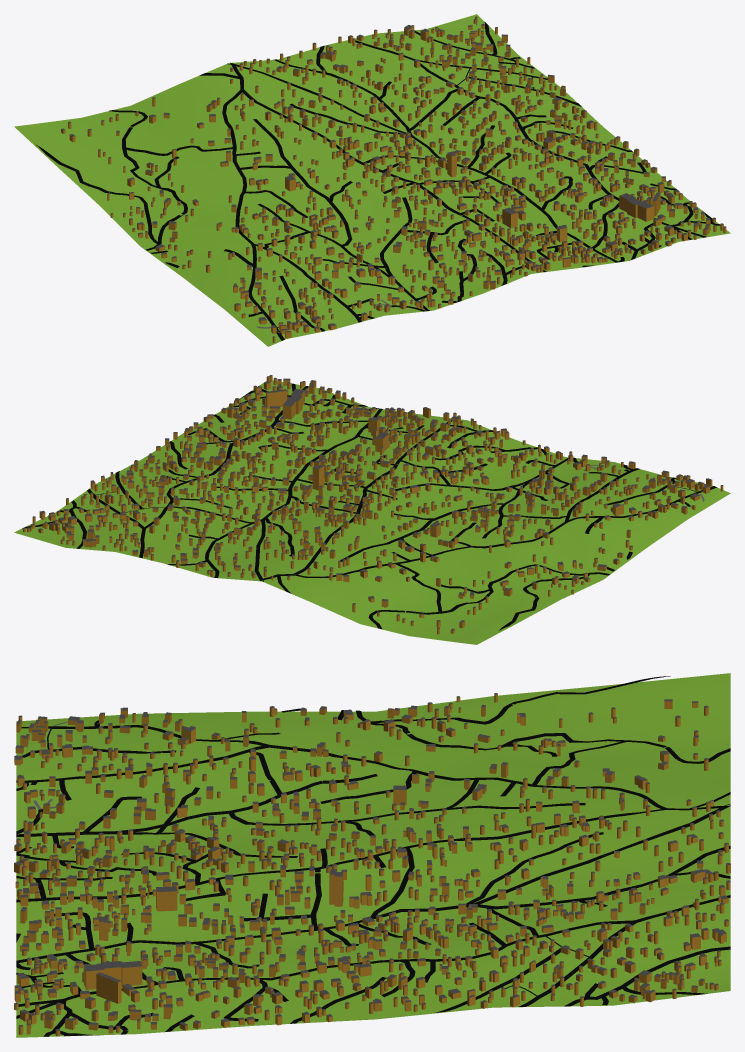
Rendered from tile_01_06.glb.
3 renders of one model, top to bottom at view 1: azimuth 30°, elevation 25°; view 2: azimuth 150°, elevation 25°; view 3: azimuth 270°, elevation 25°, orthographic. The views are drawn at different scales.
Visible parts, largest first — view 1: Terrain_01_06, Ub_small.osm_buildings_01_06, Ub_small.osm_roads_residential_01_06, Ub_small.osm_roads_tertiary_01_06; view 2: Terrain_01_06, Ub_small.osm_buildings_01_06, Ub_small.osm_roads_residential_01_06, Ub_small.osm_roads_tertiary_01_06; view 3: Terrain_01_06, Ub_small.osm_buildings_01_06, Ub_small.osm_roads_residential_01_06, Ub_small.osm_roads_tertiary_01_06.
Part boxes in pixels (x1,y1,x2,y2): Terrain_01_06: [14, 14, 730, 346]; Ub_small.osm_buildings_01_06: [61, 16, 726, 342]; Ub_small.osm_roads_residential_01_06: [36, 22, 720, 340]; Ub_small.osm_roads_tertiary_01_06: [273, 40, 706, 262]; Terrain_01_06: [14, 380, 730, 644]; Ub_small.osm_buildings_01_06: [23, 375, 723, 634]; Ub_small.osm_roads_residential_01_06: [22, 386, 716, 630]; Ub_small.osm_roads_tertiary_01_06: [139, 383, 382, 577]; Terrain_01_06: [16, 673, 730, 1037]; Ub_small.osm_buildings_01_06: [14, 693, 730, 1036]; Ub_small.osm_roads_residential_01_06: [16, 676, 730, 1036]; Ub_small.osm_roads_tertiary_01_06: [16, 845, 730, 1018].
Bounding box in the file's own units: 984 × 108 × 934.
